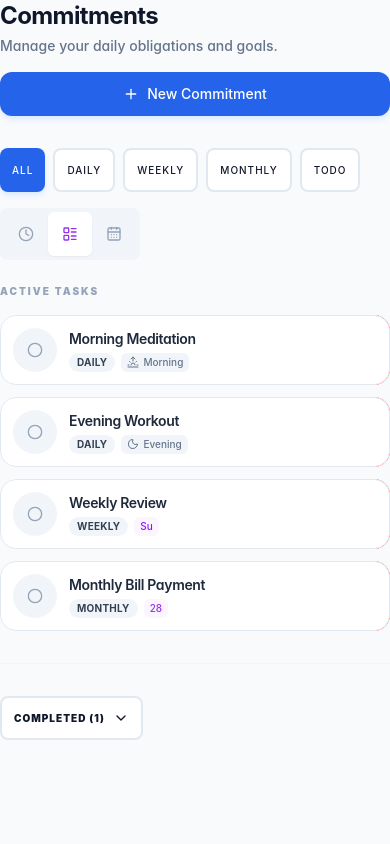
Test: CommitmentsView › Add Task Form › shows choose frequency step when "New Commitment" button is clicked
Click the button "New Commitment": x=195, y=94 [0,72,389,116]
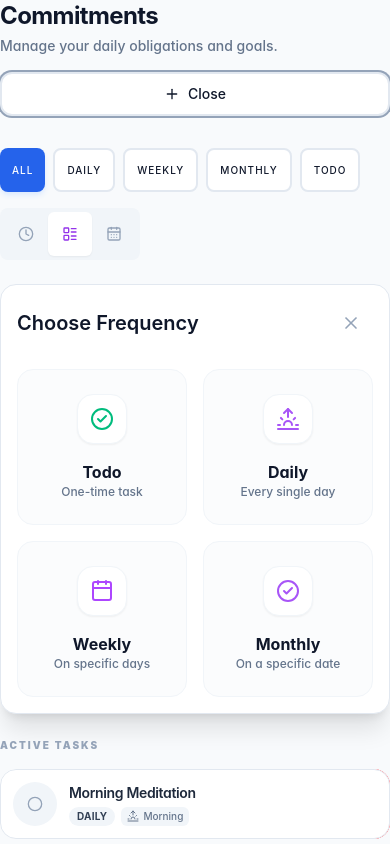
Check: the heading "Daily" is shown, box [268,462,308,482]
Check: the heading "Choose Frequency" is shown, box [17,309,199,337]
